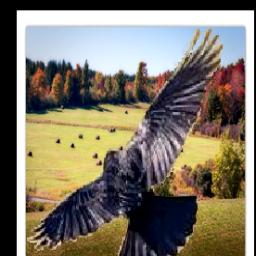Crow: (22, 18, 226, 256)
